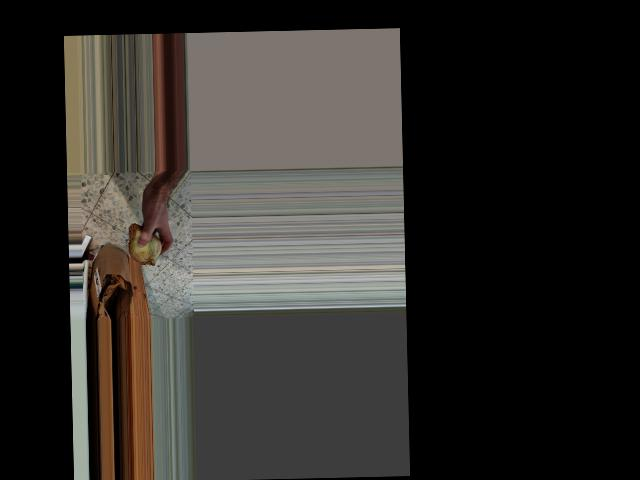onion: (125, 221, 165, 266)
